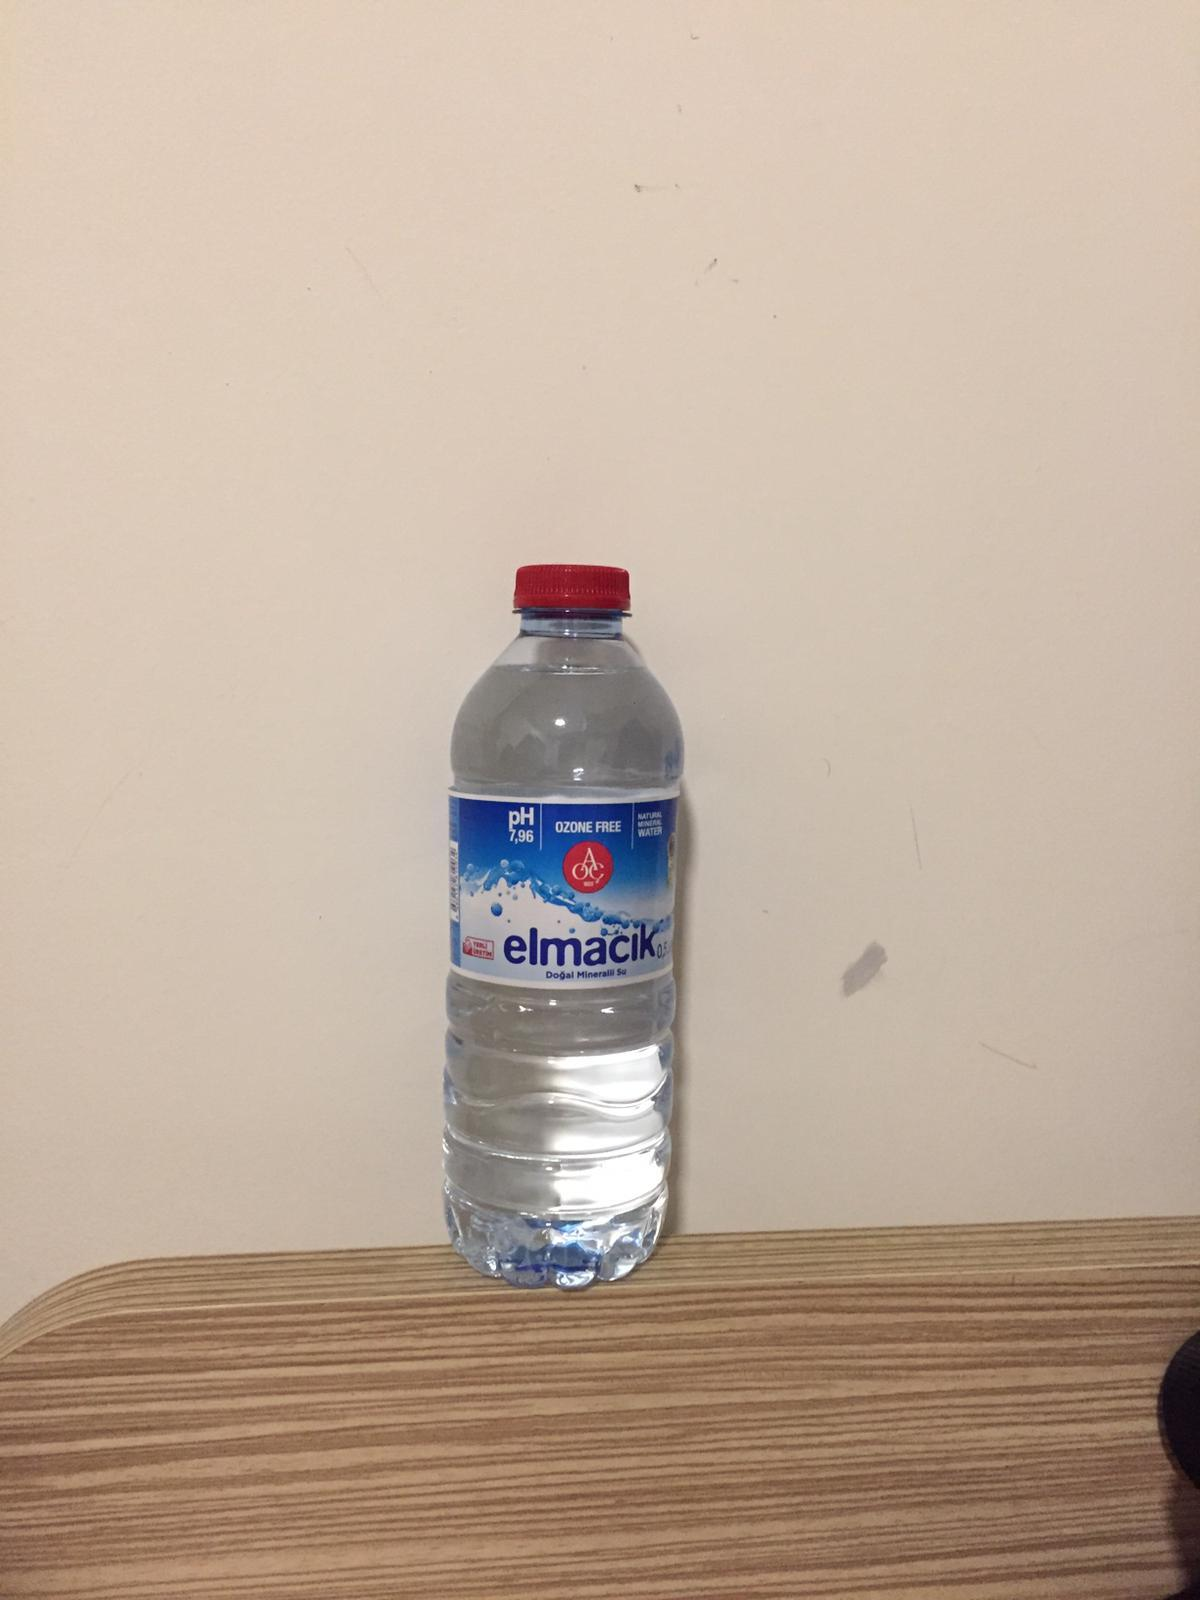bottle: (447, 552, 682, 1296)
